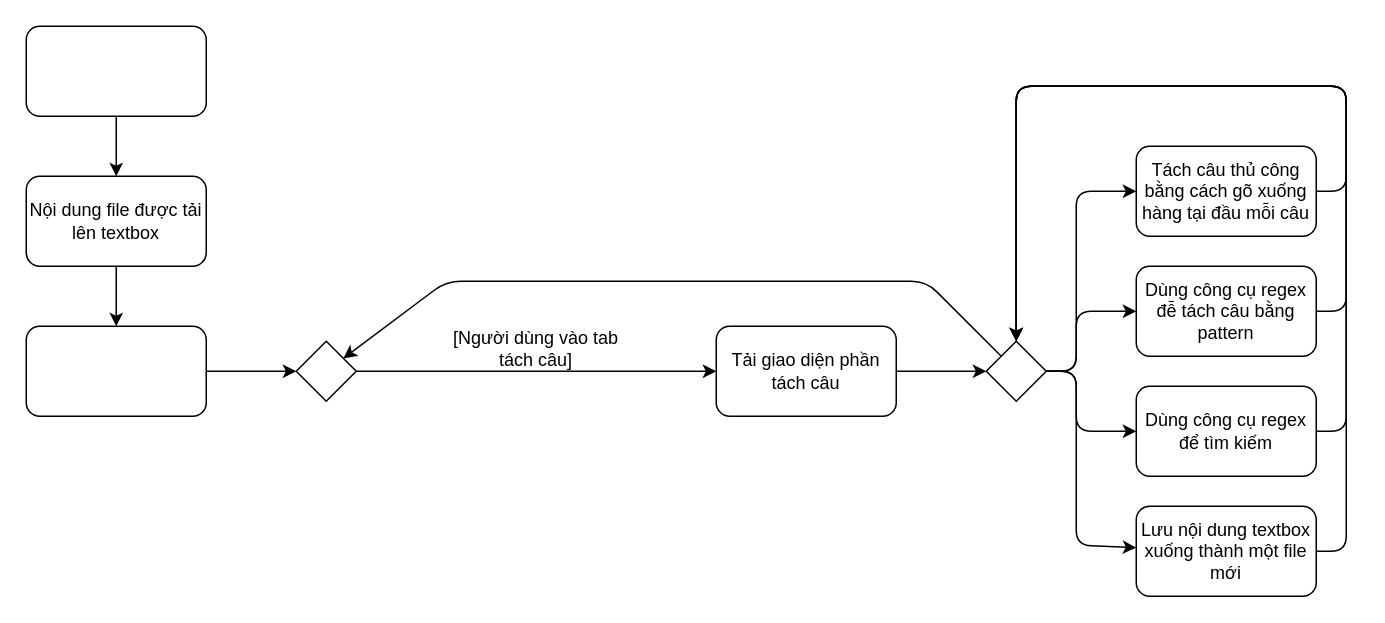
This 1385x623 diagram has some shape labels left out. The centre of each missing label's shape, as x and y in pixels:
"Người dùng chọn tab để thực hiện công việc họ muốn" goes at (115,370).
"Người dùng mở file" goes at (115,70).
